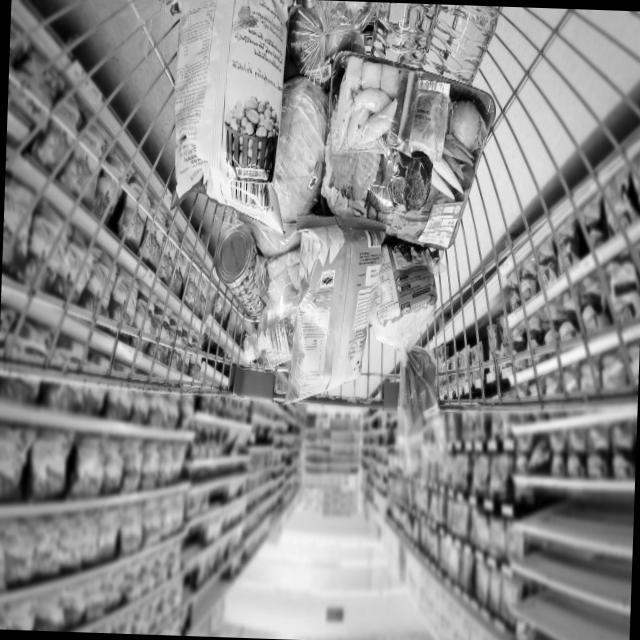apple: (294, 4, 356, 78)
bap cai: (270, 75, 338, 232)
bread: (368, 240, 451, 438)
oil: (241, 310, 307, 386)
